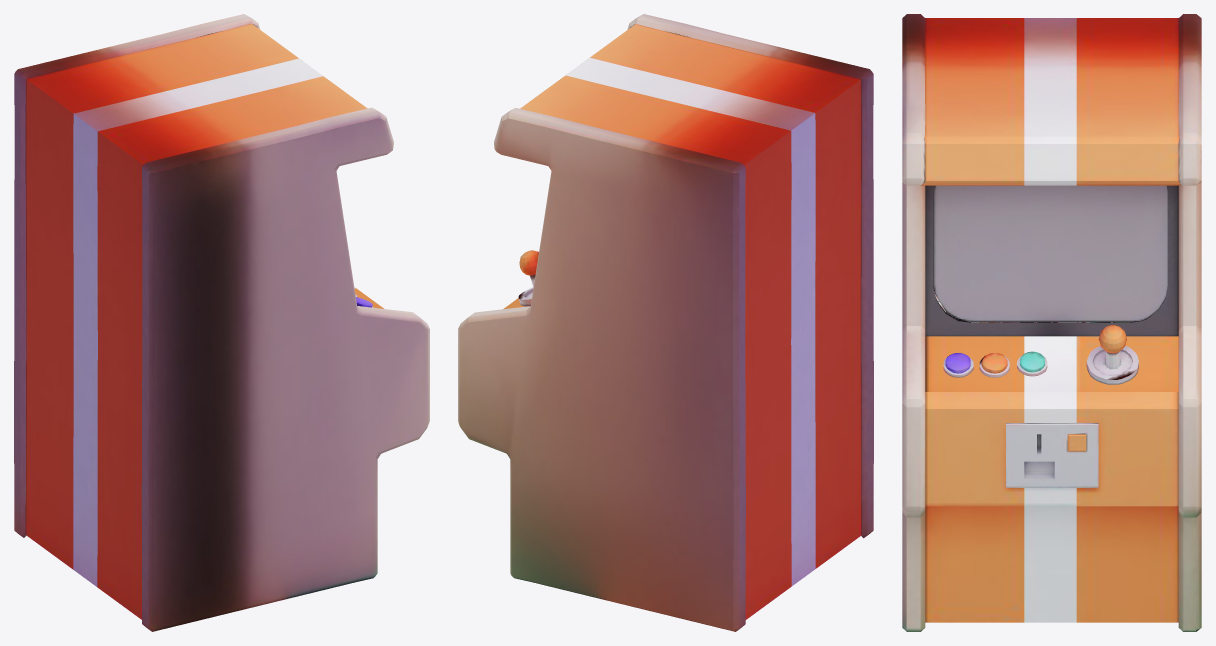
Rendered from arcade_Draco.glb.
3 views of the same model, side by side, from view 1: azimuth 30°, elevation 25°; view 2: azimuth 150°, elevation 25°; view 3: azimuth 270°, elevation 25° (orthographic). The views are drawn at different scales.
Visible parts, largest first — view 1: arcade; view 2: arcade; view 3: arcade, screen, joy, joy.001, Button_YY, Button_PP, Button_GG.
Part boxes in pixels (bbox=[...]): arcade: bbox=[14, 14, 429, 631]; arcade: bbox=[458, 14, 873, 631]; arcade: bbox=[902, 14, 1201, 631]; screen: bbox=[933, 185, 1167, 321]; joy: bbox=[1086, 346, 1138, 384]; joy.001: bbox=[1098, 324, 1126, 368]; Button_YY: bbox=[979, 353, 1009, 377]; Button_PP: bbox=[943, 353, 973, 377]; Button_GG: bbox=[1017, 351, 1047, 376].
Bounding box in the file's own units: 0.5985 × 0.9444 × 0.5102.
Materials: 2 (2 with a texture image).
